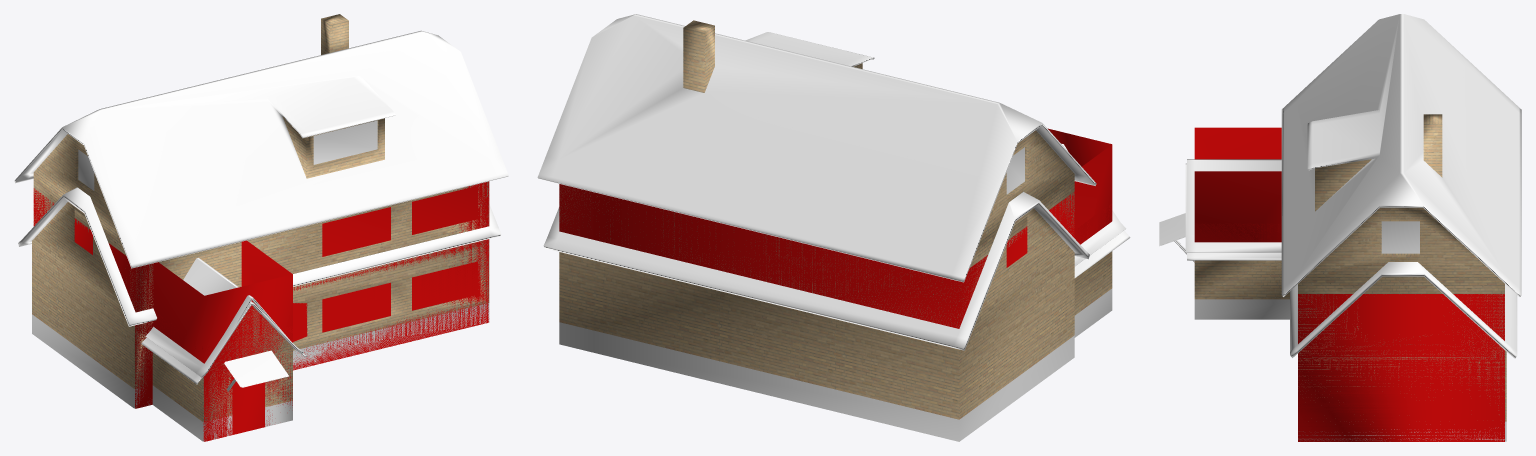
The model's file is landhaus_02.fbx.
The picture shows the model from 3 angles, left to right: view 1: azimuth 30°, elevation 25°; view 2: azimuth 150°, elevation 25°; view 3: azimuth 270°, elevation 25°; orthographic projection. The views are drawn at different scales.
Visible parts, largest first — view 1: landhaus_02a, colmesh_landhaus_02a, landhaus_02b, colmesh_landhaus_02b; view 2: landhaus_02a, landhaus_02b, colmesh_landhaus_02a; view 3: landhaus_02a, colmesh_landhaus_02a, colmesh_landhaus_02b, landhaus_02b.
Part boxes in pixels (bbox=[...]): landhaus_02a: bbox=[14, 14, 508, 441]; colmesh_landhaus_02a: bbox=[33, 181, 489, 441]; landhaus_02b: bbox=[18, 187, 501, 441]; colmesh_landhaus_02b: bbox=[135, 240, 488, 439]; landhaus_02a: bbox=[537, 14, 1130, 326]; landhaus_02b: bbox=[543, 192, 1126, 441]; colmesh_landhaus_02a: bbox=[559, 128, 1112, 328]; landhaus_02a: bbox=[1159, 14, 1521, 441]; colmesh_landhaus_02a: bbox=[1194, 127, 1504, 441]; colmesh_landhaus_02b: bbox=[1194, 223, 1504, 441]; landhaus_02b: bbox=[1161, 163, 1517, 441].
Bounding box in the file's own units: 1365 × 955 × 1122.
